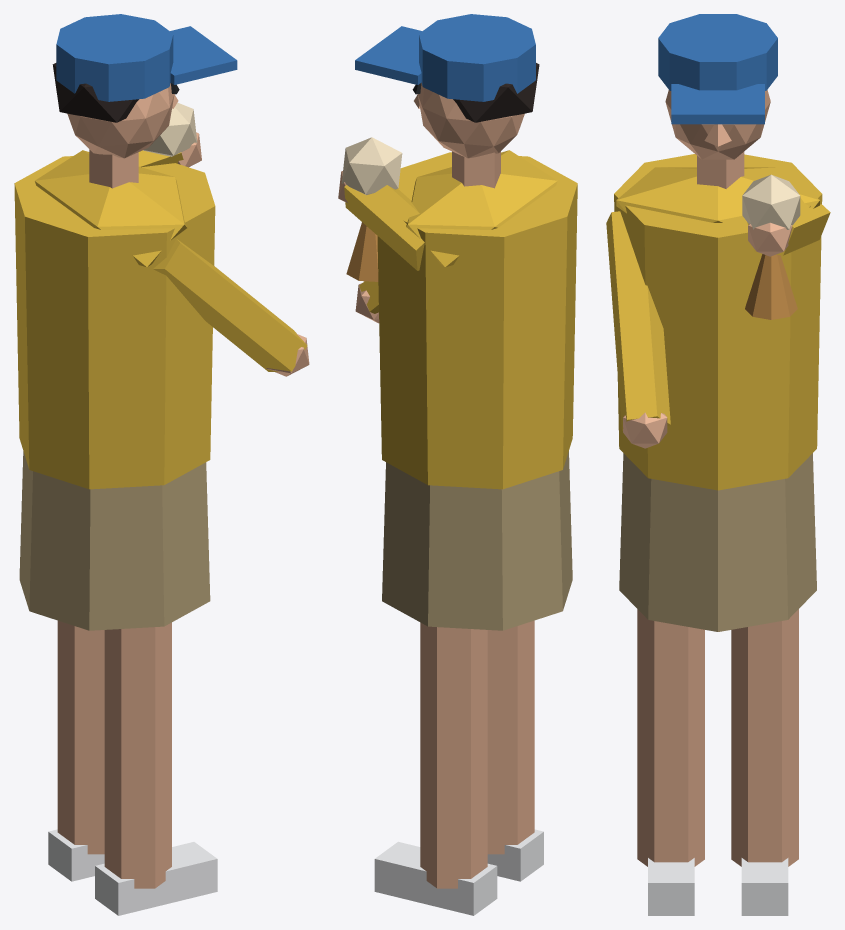
The model's file is barn_glass.glb.
3 views of the same model, side by side, from view 1: azimuth 30°, elevation 25°; view 2: azimuth 150°, elevation 25°; view 3: azimuth 270°, elevation 25° (orthographic).
Parts seen in each view (by area): view 1: barn_glass; view 2: barn_glass; view 3: barn_glass.
Part boxes in pixels (x1,y1,x2,y2): barn_glass: (14, 14, 309, 915); barn_glass: (338, 14, 577, 915); barn_glass: (606, 14, 830, 915).
Size of the model in its own units: 0.3735 by 1.23 by 0.2954.
